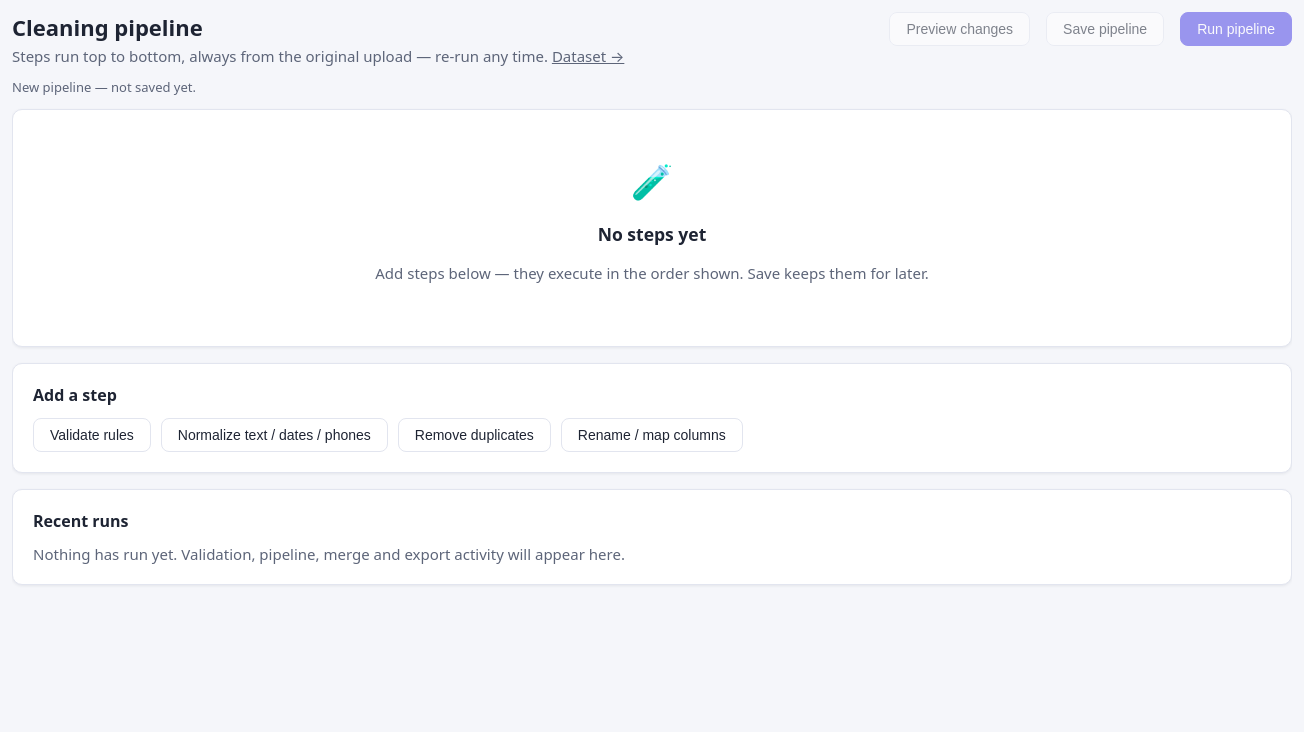
Scenario: PipelinePage (editor) › adds a dedupe step and shows its controls
Expected: the element with test id "pipeline-empty" is shown, [12,109,1292,347]
Click the button "Remove duplicates".
click(474, 435)  # box [398,418,551,452]
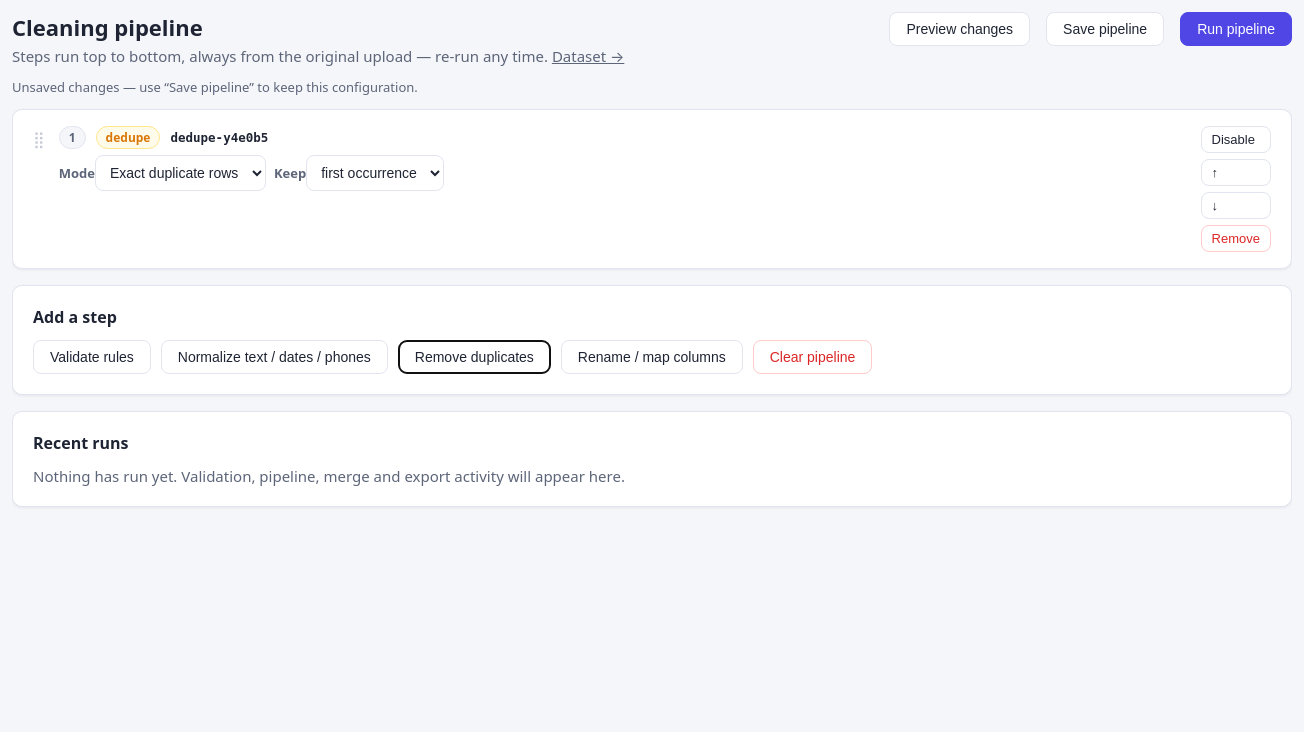
Now the element with test id "pipeline-steps" shows "dedupe", box [106,129,150,146]
Now the dropdown labelled "Mode" is shown, box [95,155,266,191]
Now the dropdown labelled "Keep" is shown, box [306,155,444,191]
